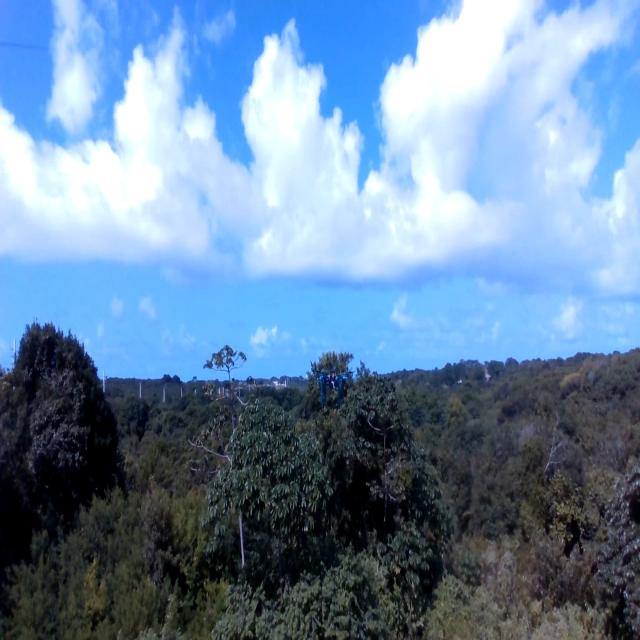-uav-: (311, 358, 359, 414)
